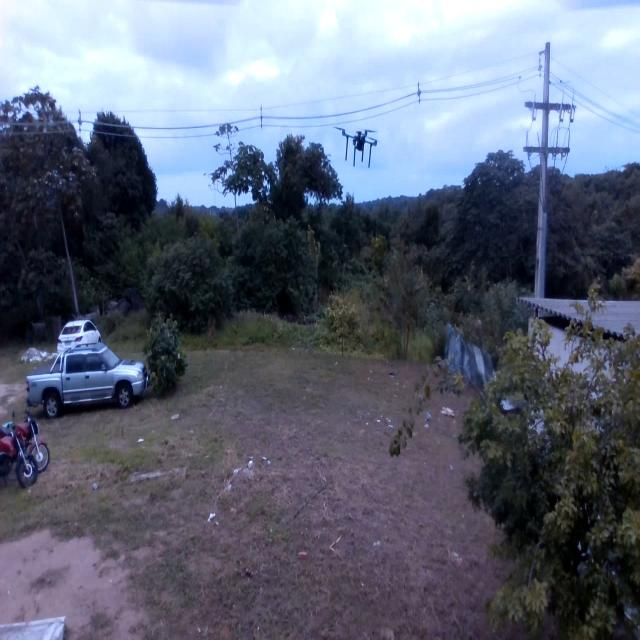-uav-: (334, 110, 380, 202)
